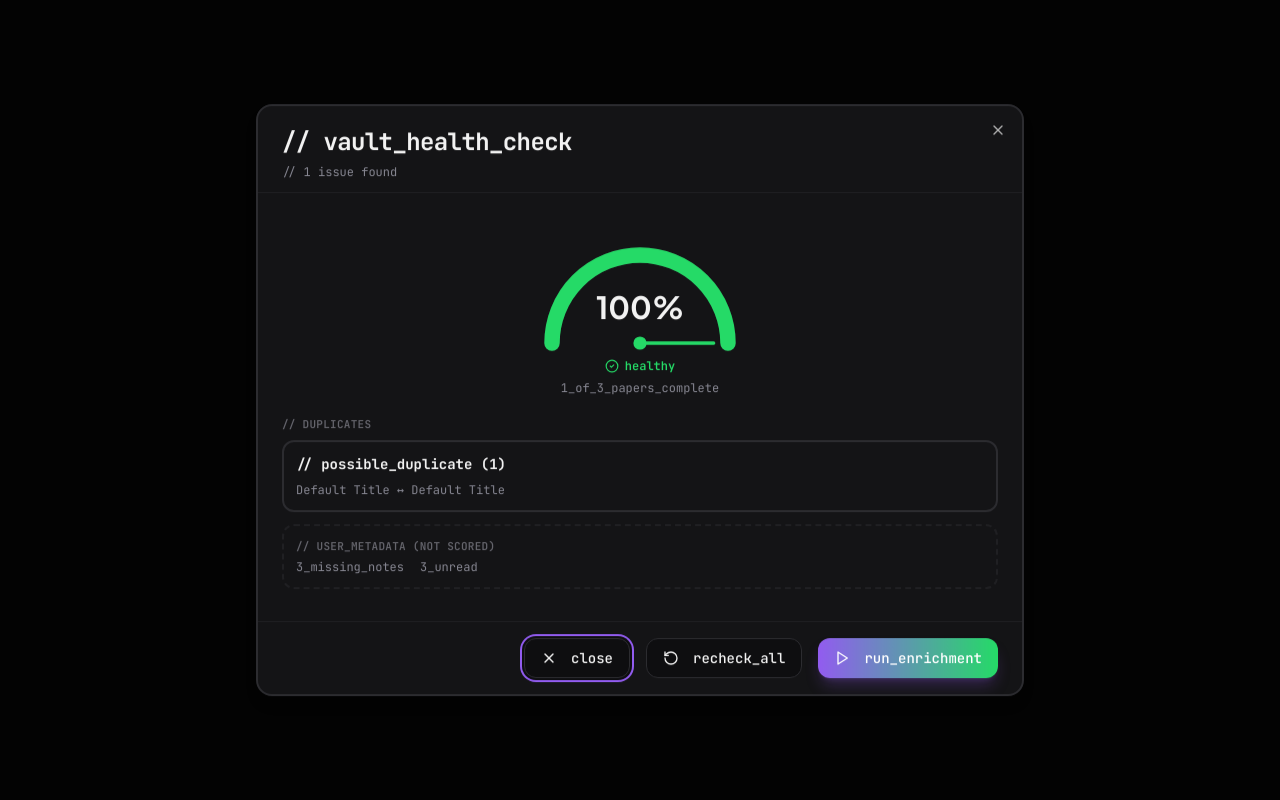
Test: VaultHealthCheckDialog › counts every failed lookup and shows only the first error message
The width and height of the screenshot is (1280, 800).
What coordinates should you click on to do the following:
click the button "run_enrichment"
I would click on:
 (908, 658)
Its box is x1=818 y1=638 x2=998 y2=678.
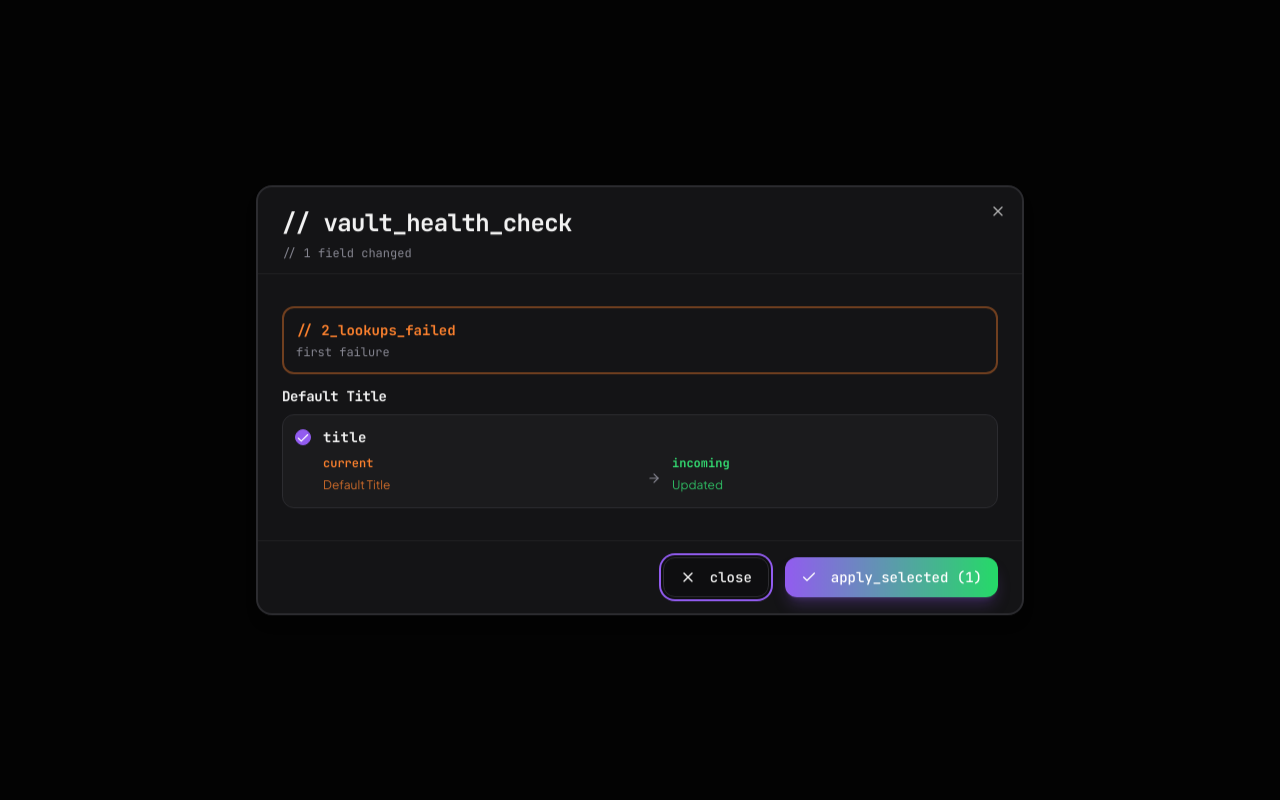
Result: the text "// 2_lookups_failed" is shown at x1=296 y1=321 x2=456 y2=339
Result: the text "first failure" is shown at x1=296 y1=344 x2=390 y2=360
Result: the button "apply_selected (1)" is shown at x1=785 y1=557 x2=998 y2=597
